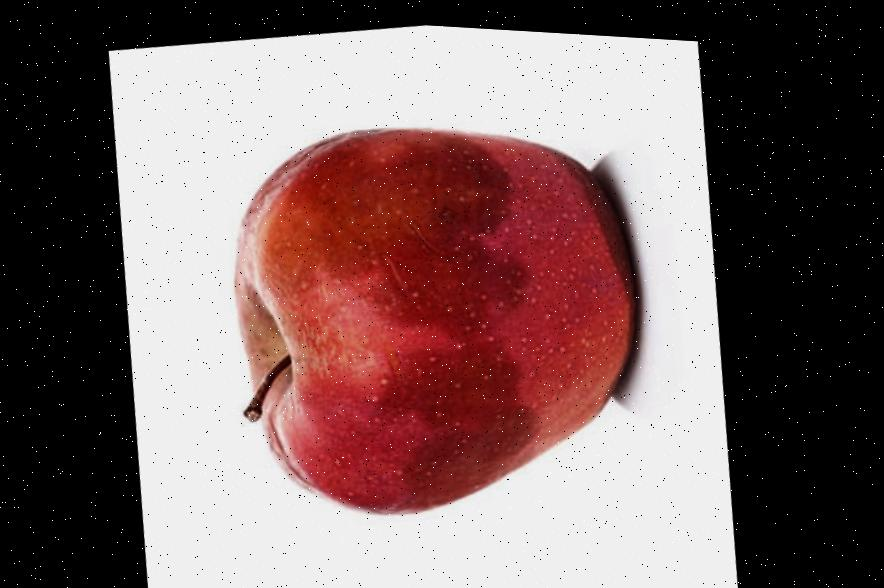ROT: (148, 53, 686, 572)
